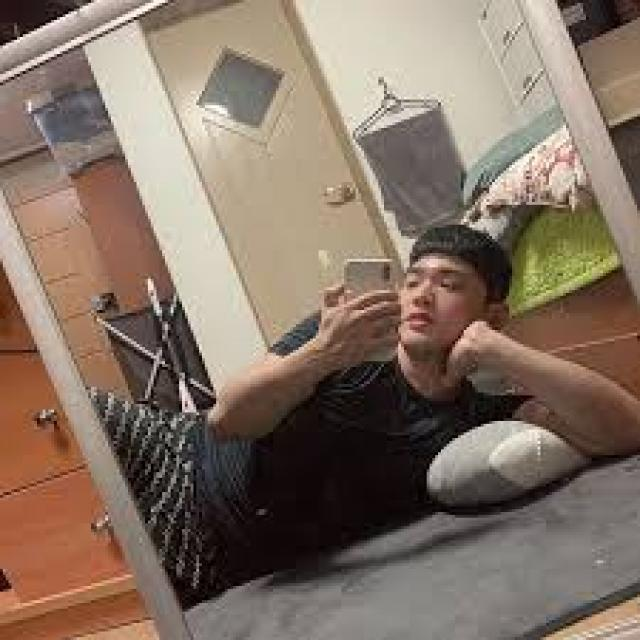Phone: (344, 260, 396, 358)
